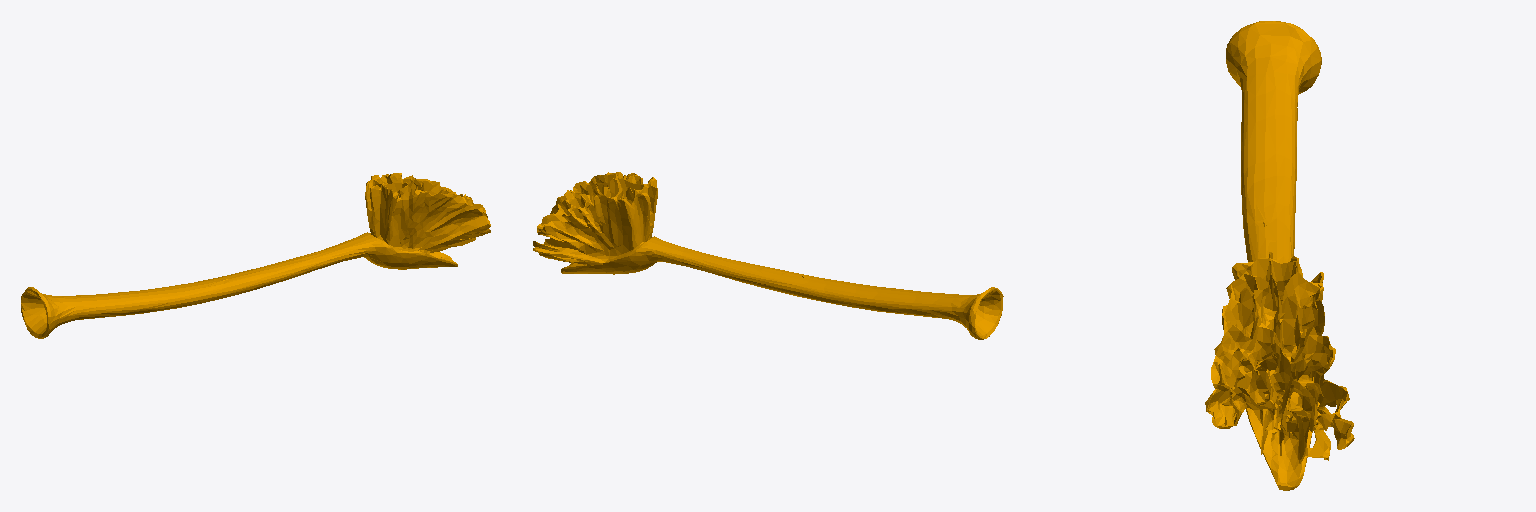
robot.urdf — green_brush:
<?xml version="1.0"?>
<robot name="green_brush">
  <link name="green_brush">
    <visual>
      <origin xyz="0 0 0" rpy="0 0 0"/>
      <geometry>
        <mesh filename="green_brush.obj" scale="1 1 1"/>
      </geometry>
    </visual>
    <collision>
      <origin xyz="0 0 0" rpy="0 0 0"/>
      <geometry>
        <mesh filename="green_brush.obj" scale="1 1 1"/>
      </geometry>
    </collision>
    <inertial>
      <density value="400.0"/>
    </inertial>
  </link>
</robot>

--- What the picture shows (computed from the rendered views, not written in the file) ---
Views: 3 orthographic renders of the robot side by side, from view 1: azimuth 30°, elevation 25°; view 2: azimuth 150°, elevation 25°; view 3: azimuth 270°, elevation 25°.
Model green_brush with 1 links and 0 joints (none), rooted at green_brush, posed every joint at zero.
Links seen in each view (by area): view 1: green_brush; view 2: green_brush; view 3: green_brush.
Boxes of the visible links, <box> form: green_brush: <box>21,173,490,338</box>; green_brush: <box>533,172,1003,339</box>; green_brush: <box>1205,21,1354,490</box>.
Bounding box of the posed robot: 0.2699 × 0.0489 × 0.062 m (x, y, z).
Meshes: 1 distinct files referenced, 1 mesh visuals loaded (1 OBJ).
